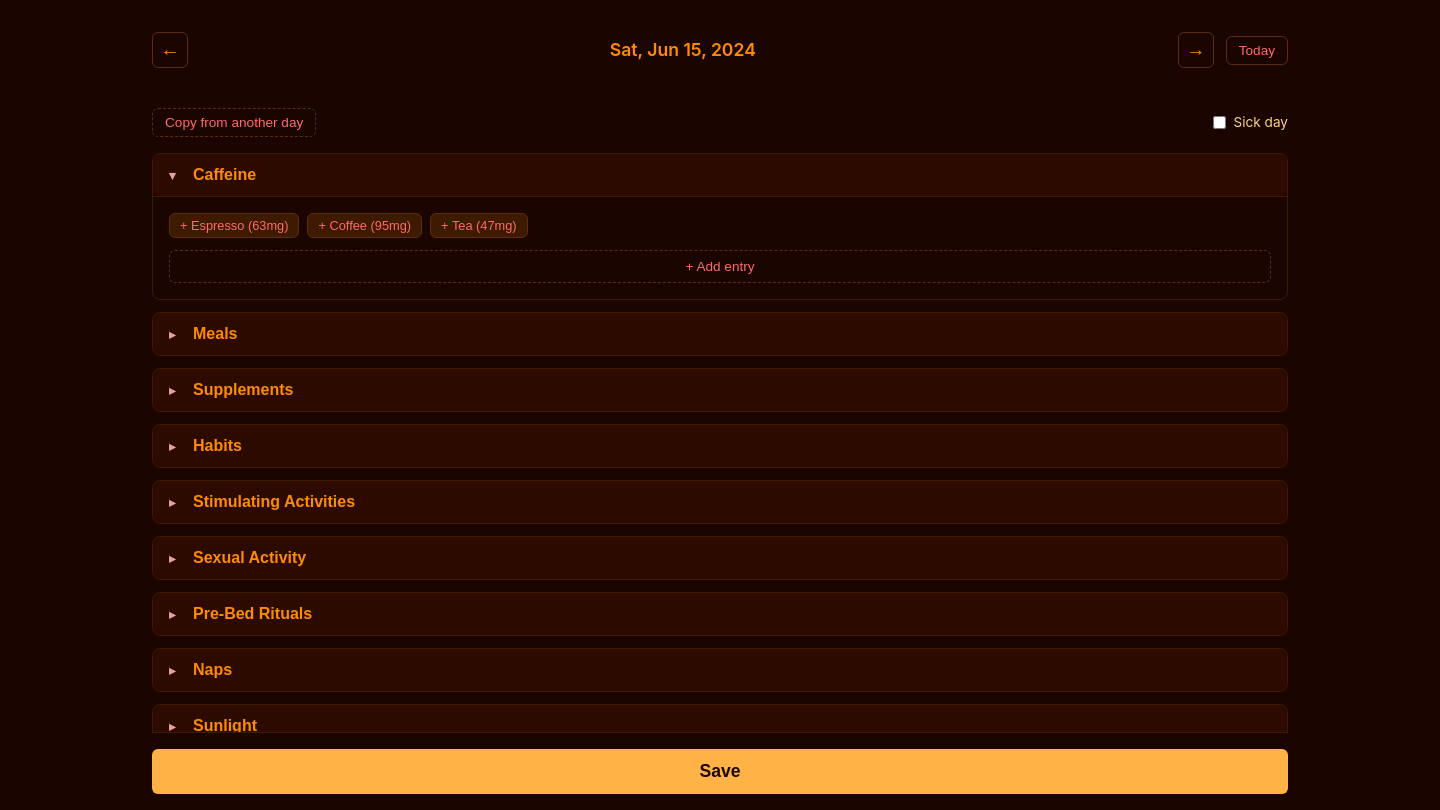
Scenario: DailyLogPage › falls back to a generic message when a 422 detail is not a string
The image size is (1440, 810).
What coordinates should you click on to do the following:
click the button "Save"
I would click on:
 (720, 772)
Its box is [152, 749, 1288, 794].
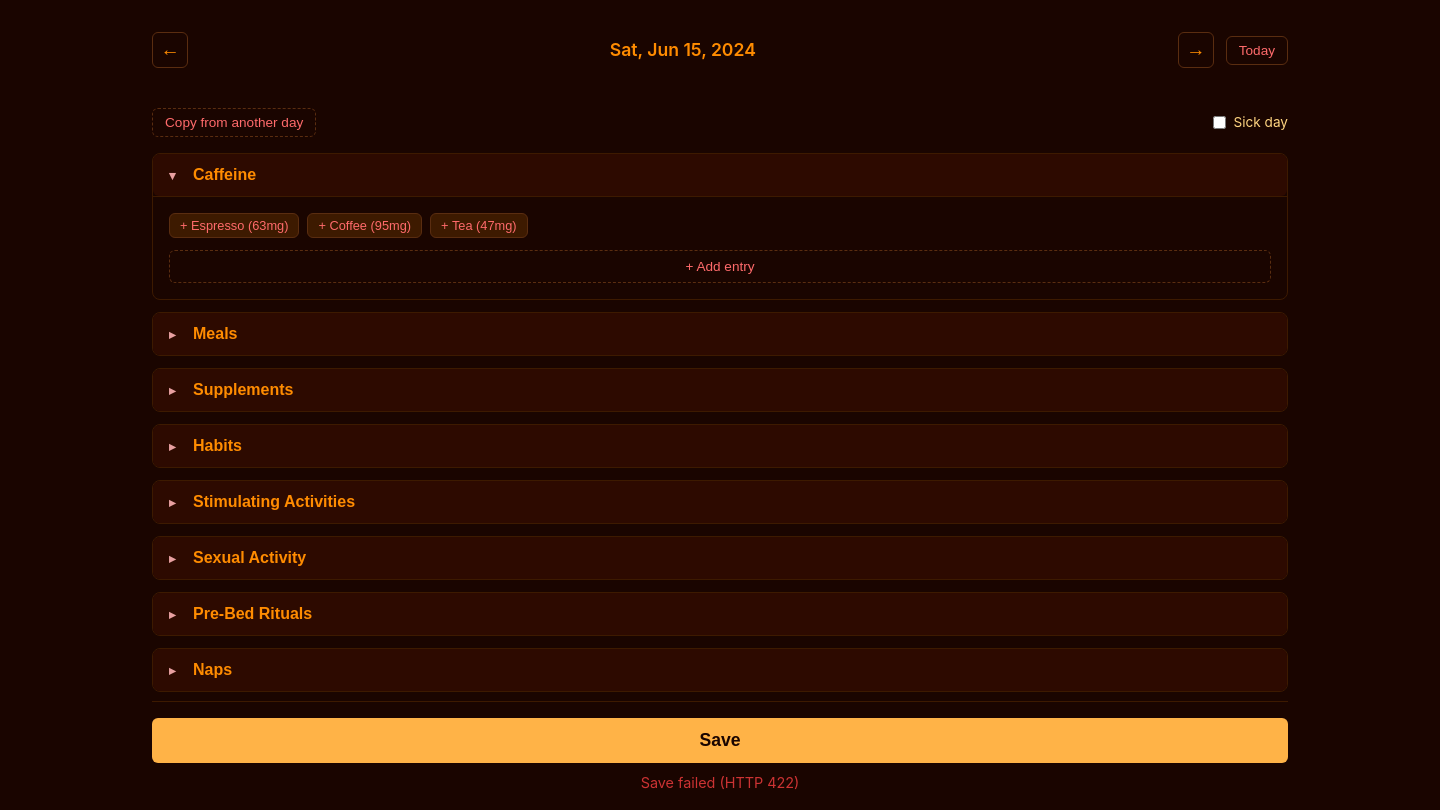
Check: the message reads "Save failed (HTTP 422)", box [641, 774, 799, 791]
